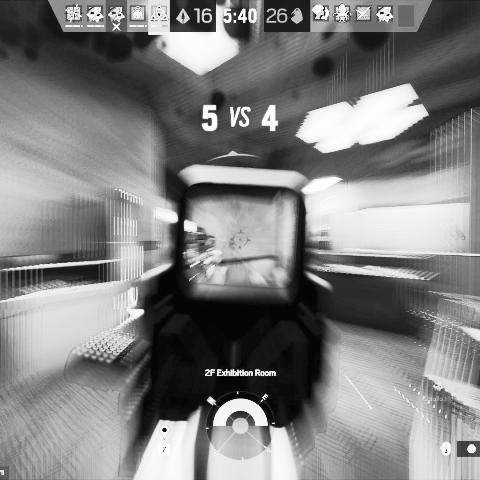Character: (184, 226, 228, 284)
Head: (192, 226, 208, 244)
